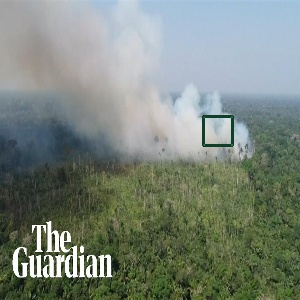square: (200, 113, 235, 148)
